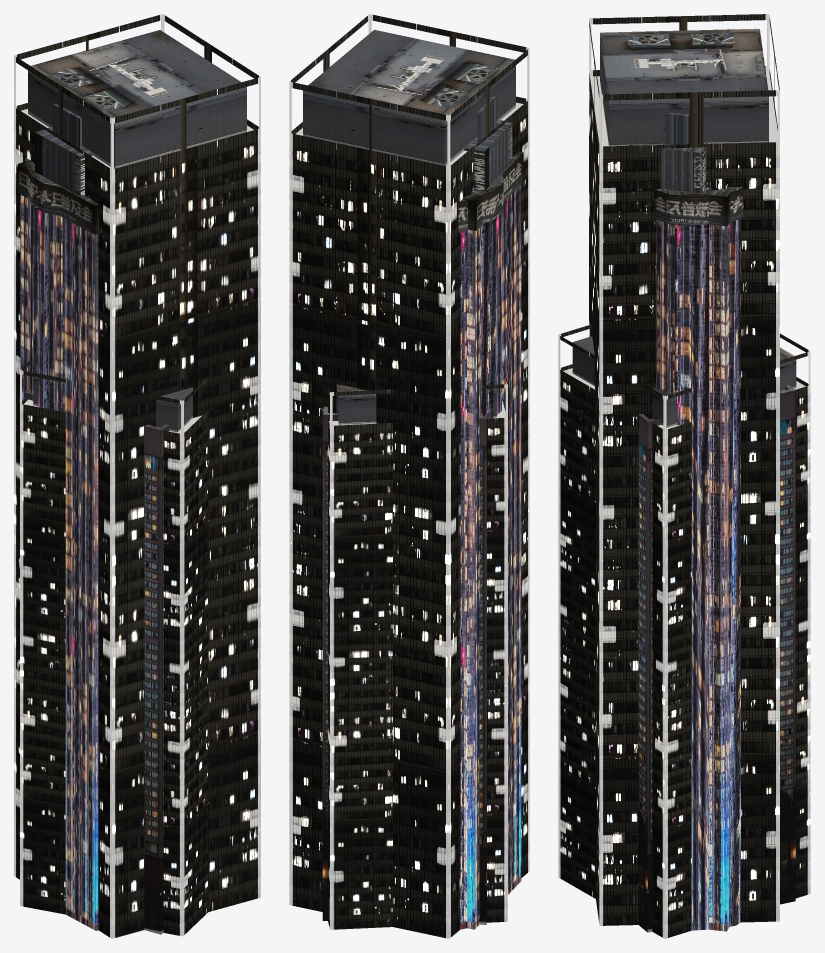
The model's file is city_buildings.glb.
The picture shows the model from 3 angles, left to right: view 1: azimuth 30°, elevation 25°; view 2: azimuth 150°, elevation 25°; view 3: azimuth 270°, elevation 25°; orthographic projection.
Visible parts, largest first — view 1: Cube.007_Material.001_0, Cube_Material.001_0, Cube.003_Material.004_0, Cube.007_Material.002_0, Cube.008_Material.003_0, Cube.001_Material.004_0, Cube.003_Material.005_0, Cube_Material.002_0, Cube.001_Material.005_0; view 2: Cube.007_Material.001_0, Cube_Material.001_0, Cube.003_Material.004_0, Cube.007_Material.002_0, Cube.001_Material.004_0, Cube.008_Material.003_0, Cube.003_Material.005_0, Cube_Material.002_0, Cube.001_Material.005_0; view 3: Cube.007_Material.001_0, Cube_Material.001_0, Cube.003_Material.004_0, Cube.007_Material.002_0, Cube.008_Material.003_0, Cube.001_Material.004_0, Cube.001_Material.005_0, Cube.003_Material.005_0, Cube_Material.002_0.
Boxes of the visible parts, x1,y1,x2,y2 form: Cube.007_Material.001_0: (14,14,260,938); Cube_Material.001_0: (20,361,208,936); Cube.003_Material.004_0: (20,194,98,930); Cube.007_Material.002_0: (28,30,246,168); Cube.008_Material.003_0: (24,392,169,934); Cube.001_Material.004_0: (30,202,62,411); Cube.003_Material.005_0: (18,103,99,234); Cube_Material.002_0: (33,376,192,432); Cube.001_Material.005_0: (25,157,63,216); Cube.007_Material.001_0: (289,14,529,938); Cube_Material.001_0: (325,364,507,929); Cube.003_Material.004_0: (467,184,521,929); Cube.007_Material.002_0: (303,29,515,165); Cube.001_Material.004_0: (460,213,501,929); Cube.008_Material.003_0: (322,414,487,924); Cube.003_Material.005_0: (463,96,523,230); Cube_Material.002_0: (336,384,496,424); Cube.001_Material.005_0: (458,173,503,231); Cube.007_Material.001_0: (589,14,779,925); Cube_Material.001_0: (558,324,810,938); Cube.003_Material.004_0: (656,218,740,930); Cube.007_Material.002_0: (600,28,768,146); Cube.008_Material.003_0: (638,390,795,932); Cube.001_Material.004_0: (709,223,729,931); Cube.001_Material.005_0: (629,113,733,226); Cube.003_Material.005_0: (653,186,743,225); Cube_Material.002_0: (572,336,796,427).
Bounding box in the file's own units: 1.32 × 4.81 × 1.32.
9 materials, 9 textured.
